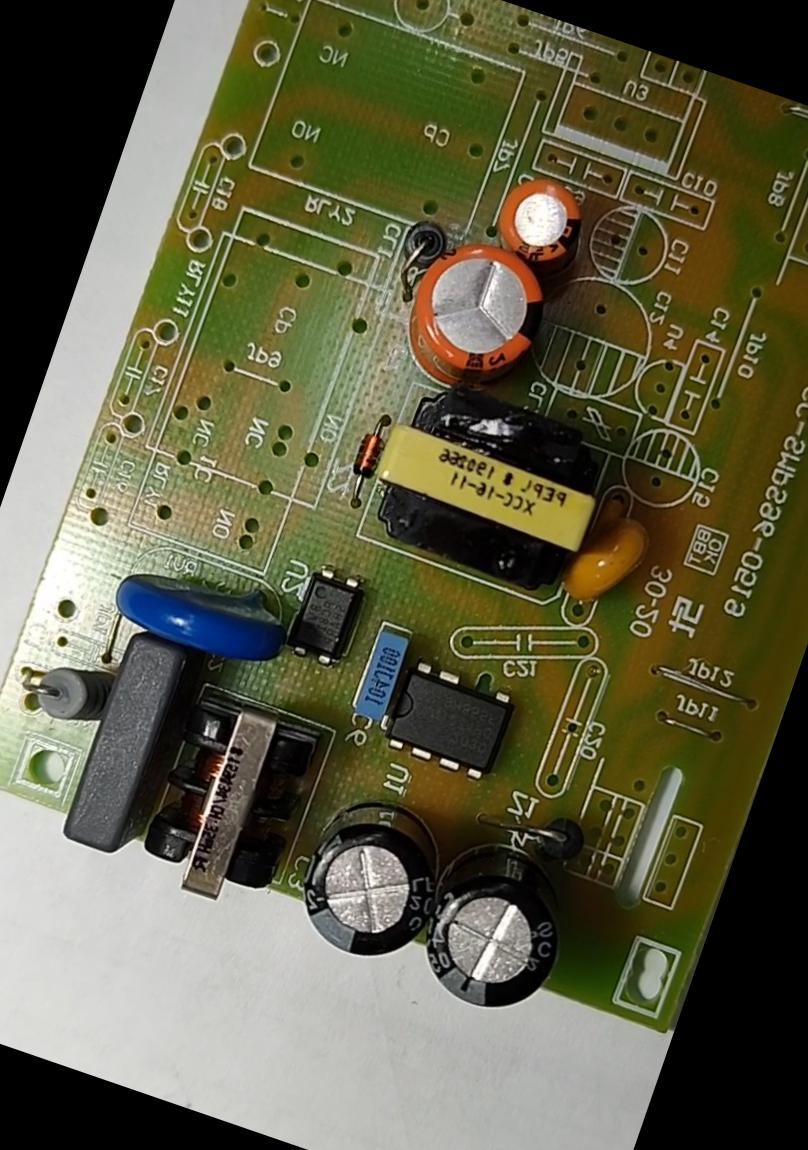Cap1: (381, 220, 574, 417)
Cap2: (484, 165, 600, 279)
Cap3: (270, 781, 464, 986)
Cap4: (399, 817, 597, 1029)
MOSFET: (377, 650, 532, 790)
Mov: (100, 538, 314, 692)
Resistor: (18, 642, 122, 741)
Transformer: (347, 365, 632, 616), (123, 680, 337, 928)
